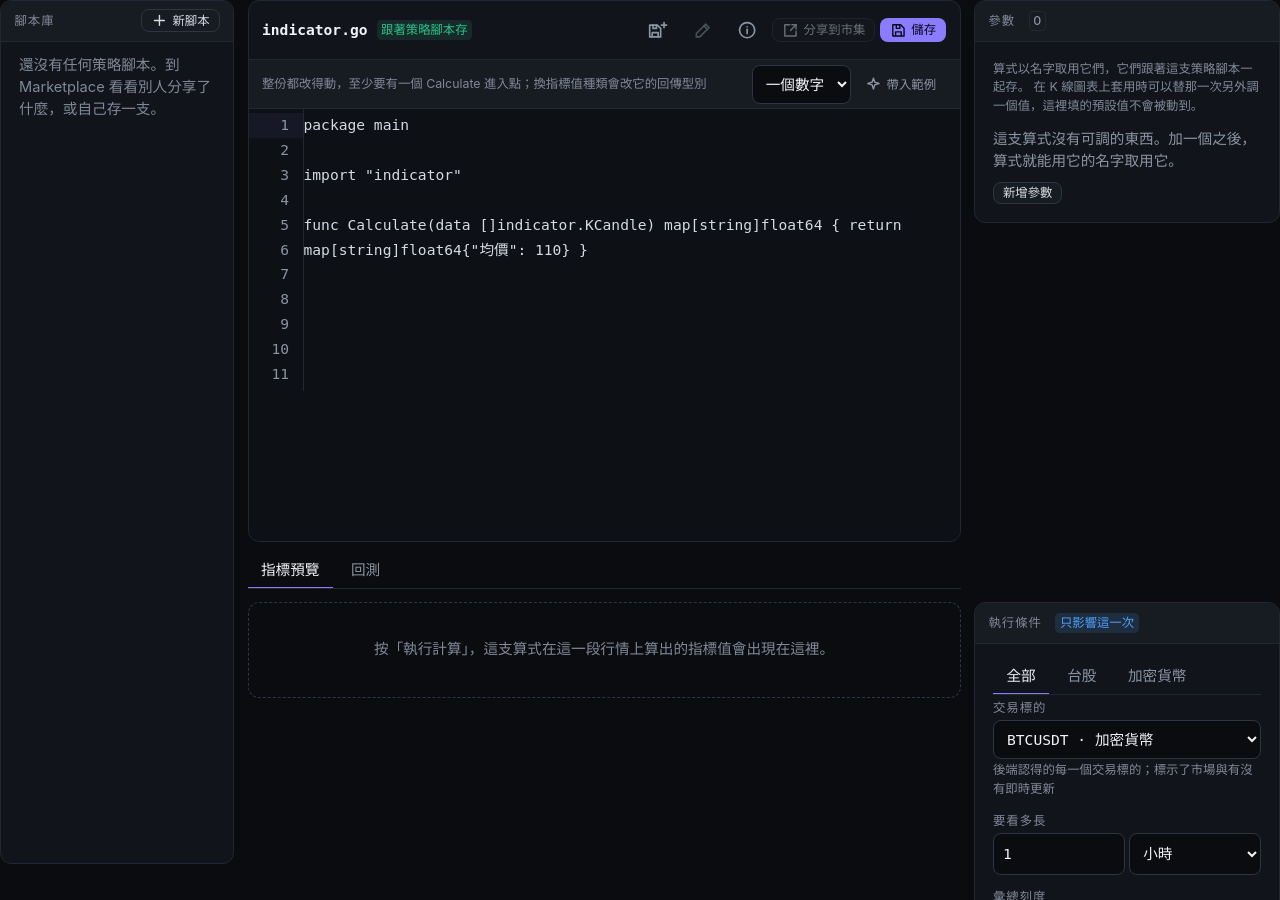
IndicatorCalculationPanel › 算完之後，在採用根數旁邊說明只採用走完的那幾格
Clear the field with class "cm-content" at (356, 125), box [304,116,910,258]
(page scrolled)
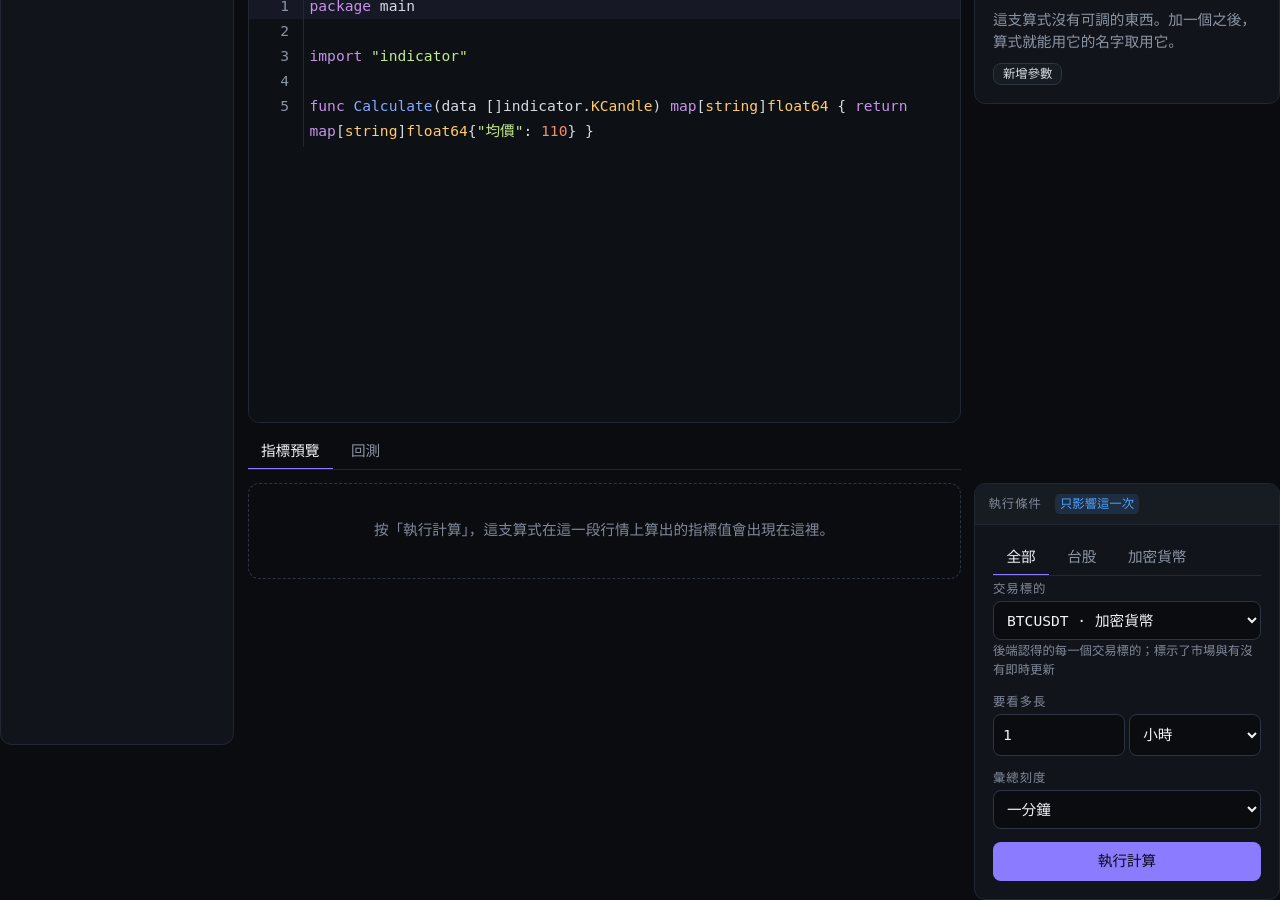
Submit the form, box [248,483,1279,899]
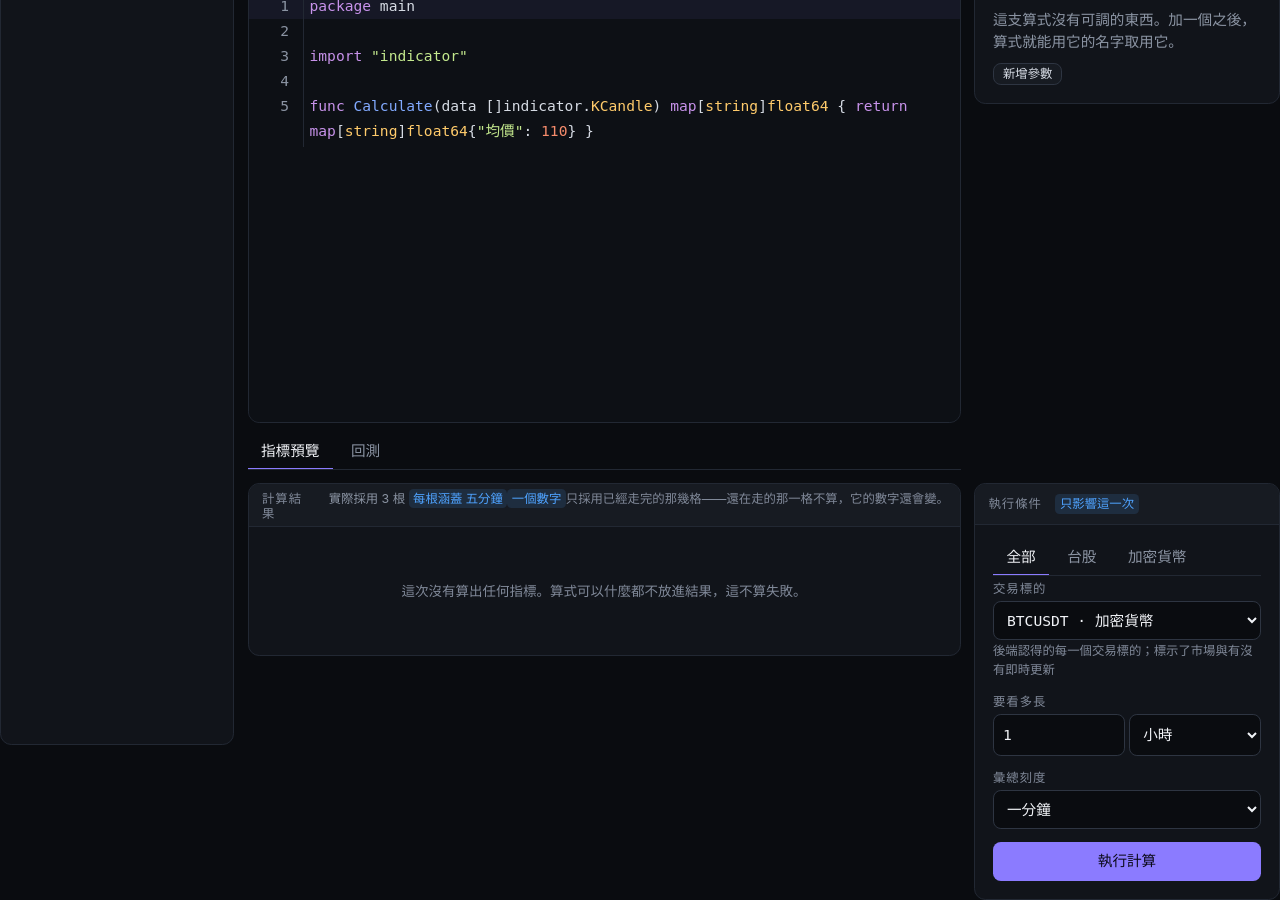
Now the text with test id "calculation-notice" shows "已經走完", box [566,491,946,506]
